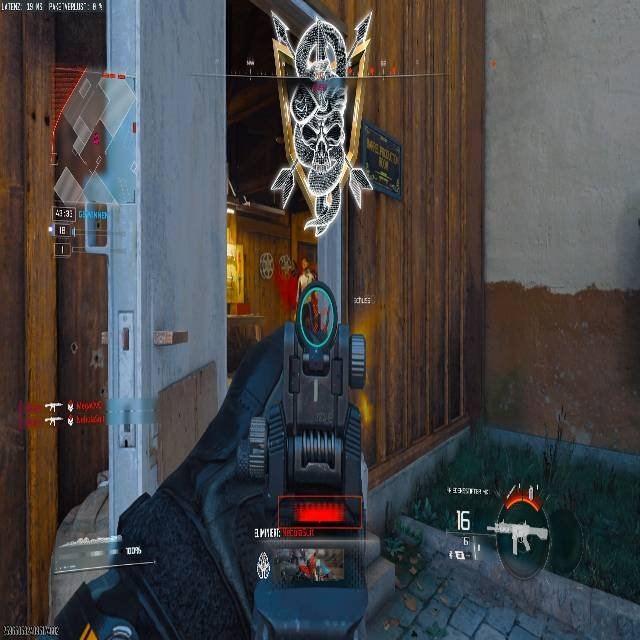player: (225, 0, 403, 242)
